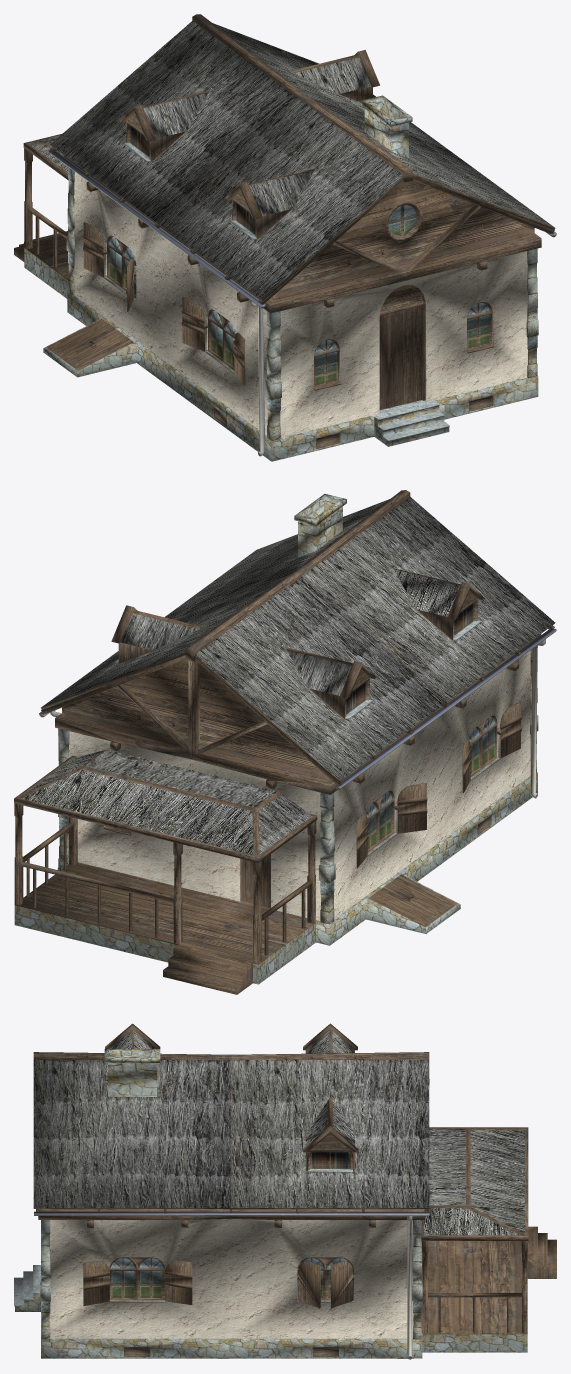
File: house.fbx
The picture shows the model from 3 angles, top to bottom: view 1: azimuth 30°, elevation 25°; view 2: azimuth 150°, elevation 25°; view 3: azimuth 270°, elevation 25°; orthographic projection. The views are drawn at different scales.
Parts seen in each view (by area): view 1: houseA; view 2: houseA; view 3: houseA.
Boxes of the visible parts, x1,y1,x2,y2 form: houseA: (14,14,556,461); houseA: (14,490,556,994); houseA: (14,1023,556,1359).
Bounding box in the file's own units: 78.1 × 60.52 × 115.
